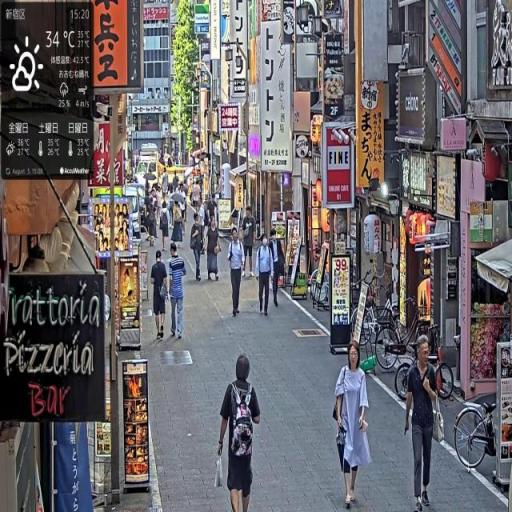person: (217, 350, 263, 512), (404, 334, 443, 512), (333, 340, 373, 511), (168, 245, 189, 338), (228, 226, 247, 319), (152, 252, 171, 344), (256, 234, 275, 318), (240, 205, 258, 279), (205, 217, 222, 283), (190, 212, 205, 283), (160, 204, 171, 251)
